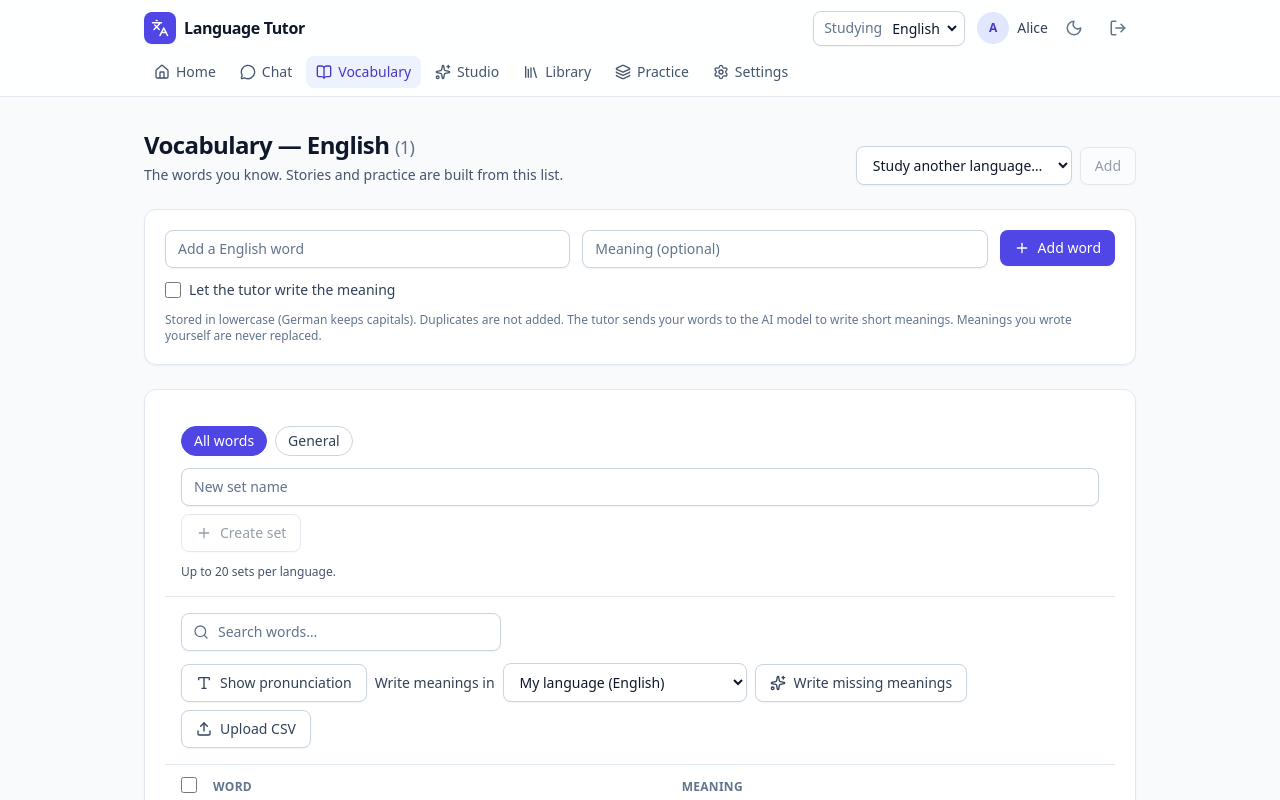
two tabs, one cookie › a session that ended elsewhere sends the page to the login screen
In the field labelled "word": (368, 249) [165, 230, 570, 268], type "x"
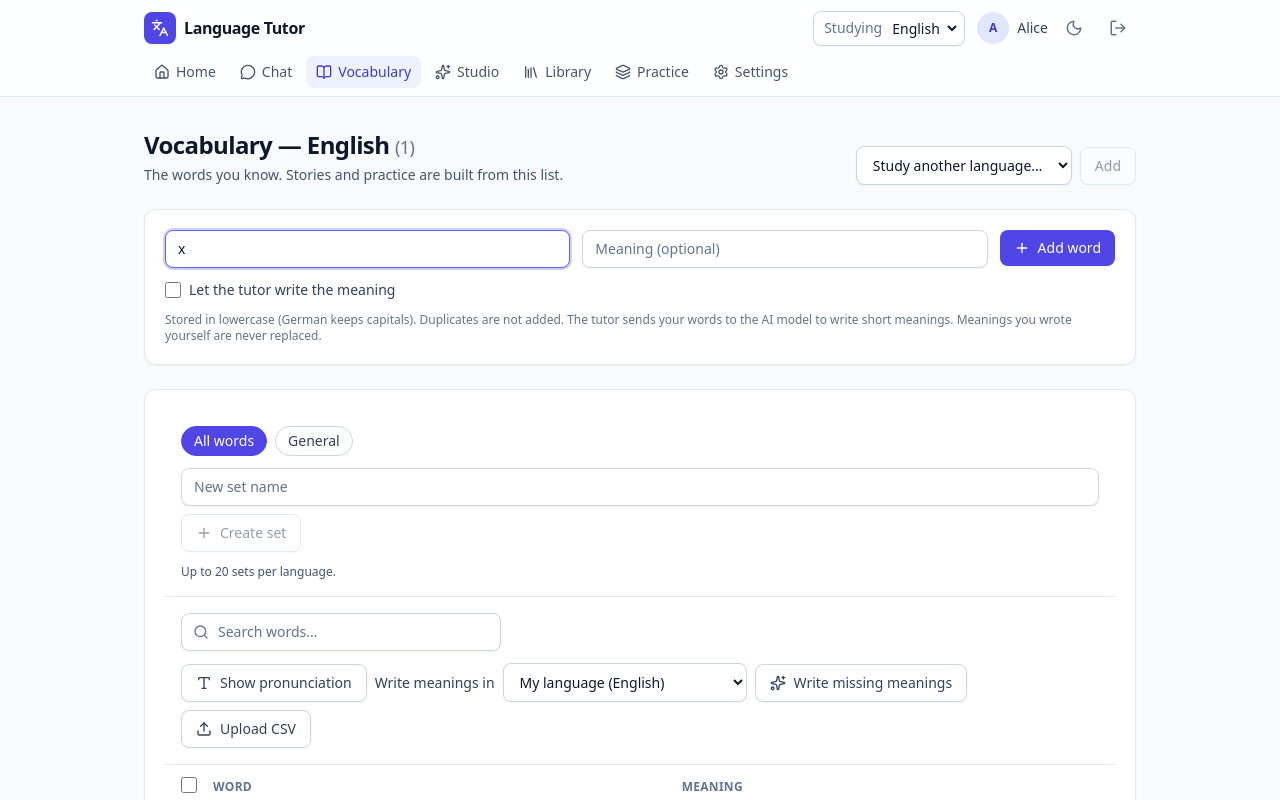
Click the button "Add word": click(1057, 248) [1000, 230, 1115, 266]
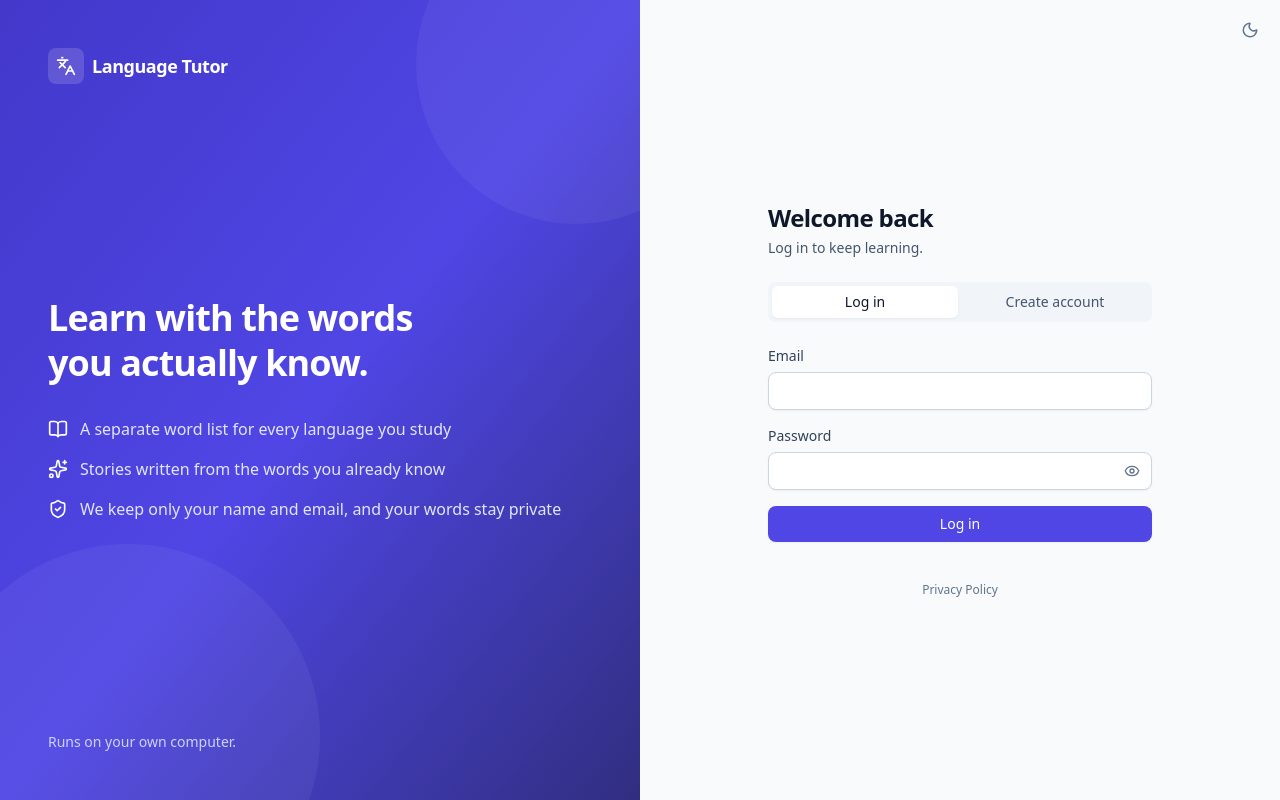
Expected: the button "Log in" is shown, [768, 506, 1152, 542]
